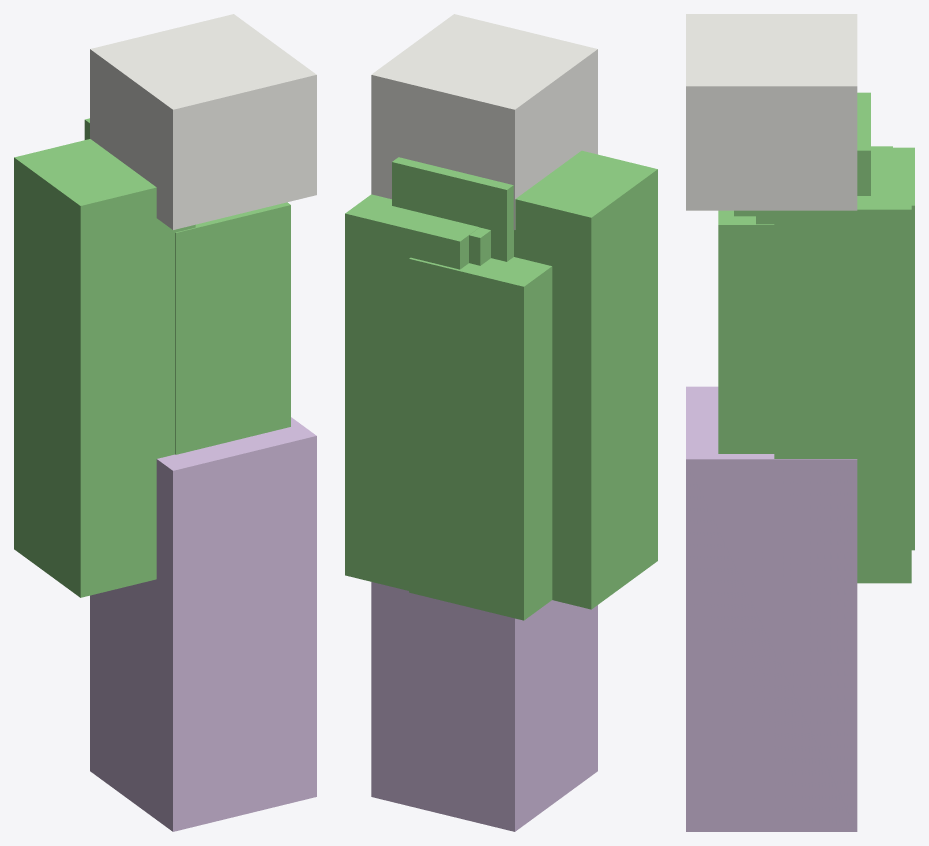
File: Item_Herb_AMF_Pawmint_Bundle5.glb
3 renders of one model, left to right at view 1: azimuth 30°, elevation 25°; view 2: azimuth 150°, elevation 25°; view 3: azimuth 270°, elevation 25°, orthographic. The views are drawn at different scales.
Visible parts, largest first — view 1: Item_Herb_AMF_Pawmint_Bundle5; view 2: Item_Herb_AMF_Pawmint_Bundle5; view 3: Item_Herb_AMF_Pawmint_Bundle5.
Boxes of the visible parts, <box> form: Item_Herb_AMF_Pawmint_Bundle5: <box>14,14,316,831</box>; Item_Herb_AMF_Pawmint_Bundle5: <box>345,14,657,831</box>; Item_Herb_AMF_Pawmint_Bundle5: <box>686,14,914,831</box>.
Size of the model in its own units: 0.0765 by 0.24 by 0.0668.
